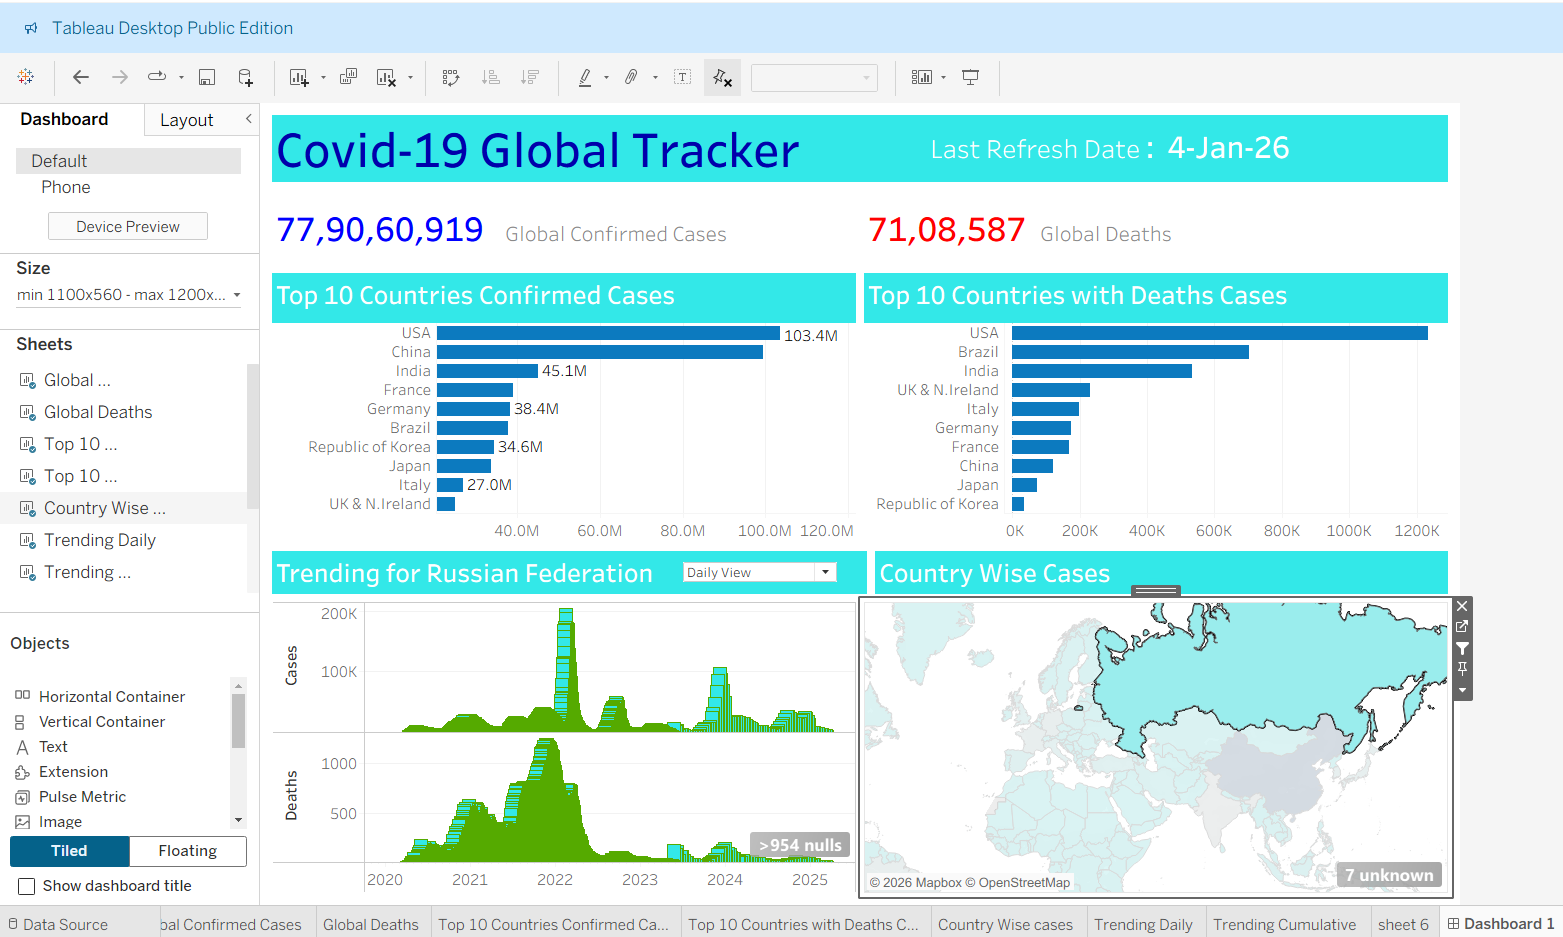

Layout of this report page (visuals, bound fields, positions):
{"tool":"tableau","page":{"name":"Dashboard 1","canvas":[1000,1000],"units":"permille","ordinal":0},"visuals":[{"type":"text","box":[6.7,10,986.7,93.5]},{"type":"worksheet","title":"Last Refresh","mark":"Automatic","box":[555,28.7,398.3,49.9]},{"type":"worksheet","title":"Global Confirmed Cases","mark":"Automatic","box":[6.7,103.5,493.3,103.5]},{"type":"worksheet","title":"Global Deaths","mark":"Automatic","box":[500,103.5,493.3,103.5]},{"type":"worksheet","title":"Top 10 Countries Confirmed Cases","mark":"Automatic","rows":["Country"],"cols":["New_cases"],"box":[6.7,207,493.3,346.6]},{"type":"worksheet","title":"Top 10 Countries with Deaths Cases","mark":"Automatic","rows":["Country"],"cols":["New_deaths"],"box":[500,207,493.3,346.6]},{"type":"worksheet","title":"Sheet 9","mark":"Automatic","box":[6.7,553.6,502.5,63.6]},{"type":"worksheet","title":"Sheet 10","mark":"Automatic","box":[509.2,553.6,484.2,63.6]},{"type":"parameter","param":"[Parameters].[Parameter 1]","box":[350,568.6,133.3,34.9]},{"type":"worksheet","title":"Trending Cumulative","mark":"Bar","rows":["New_cases","New_deaths"],"cols":["Date_reported"],"box":[6.7,617.2,0.8,372.8]},{"type":"worksheet","title":"Trending Daily","mark":"Bar","rows":["New_cases","New_deaths"],"cols":["Date_reported"],"box":[7.5,617.2,492.5,372.8]},{"type":"worksheet","title":"Country Wise cases","mark":"Automatic","box":[500,617.2,493.3,372.8]}]}

Visuals, with their boxes on the dashboard's canvas, which has no fixed pixel size, in thousandths of its width and height (x1, y1, x2, y2). These are canvas units, not pixel positions in the 1563x937 screenshot, which may show the page scaled, cropped or inside an application window:
text: locate(7, 10, 993, 104)
"Last Refresh" worksheet: locate(555, 29, 953, 79)
"Global Confirmed Cases" worksheet: locate(7, 104, 500, 207)
"Global Deaths" worksheet: locate(500, 104, 993, 207)
"Top 10 Countries Confirmed Cases" worksheet: locate(7, 207, 500, 554)
"Top 10 Countries with Deaths Cases" worksheet: locate(500, 207, 993, 554)
"Sheet 9" worksheet: locate(7, 554, 509, 617)
"Sheet 10" worksheet: locate(509, 554, 993, 617)
parameter: locate(350, 569, 483, 604)
"Trending Cumulative" worksheet (Bar marks): locate(7, 617, 8, 990)
"Trending Daily" worksheet (Bar marks): locate(8, 617, 500, 990)
"Country Wise cases" worksheet: locate(500, 617, 993, 990)
